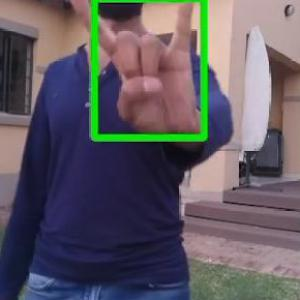takeoff-hand: (66, 0, 204, 147)
